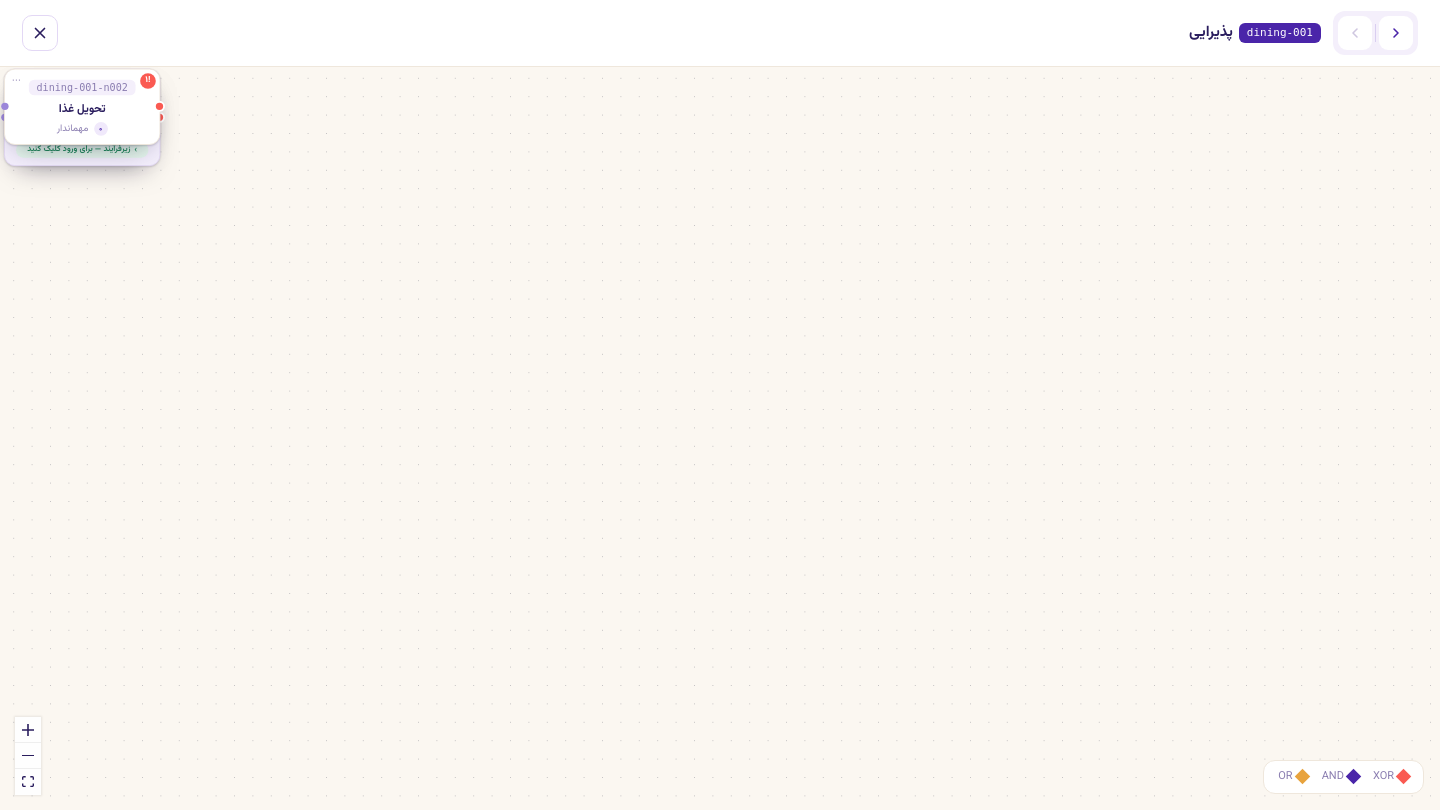
Test: FlowViewer › opens a read-only, conflict-free drawer for an activity
The image size is (1440, 810).
Step 1. Click the text "تحویل غذا" → (82, 109), box [59, 100, 106, 118]
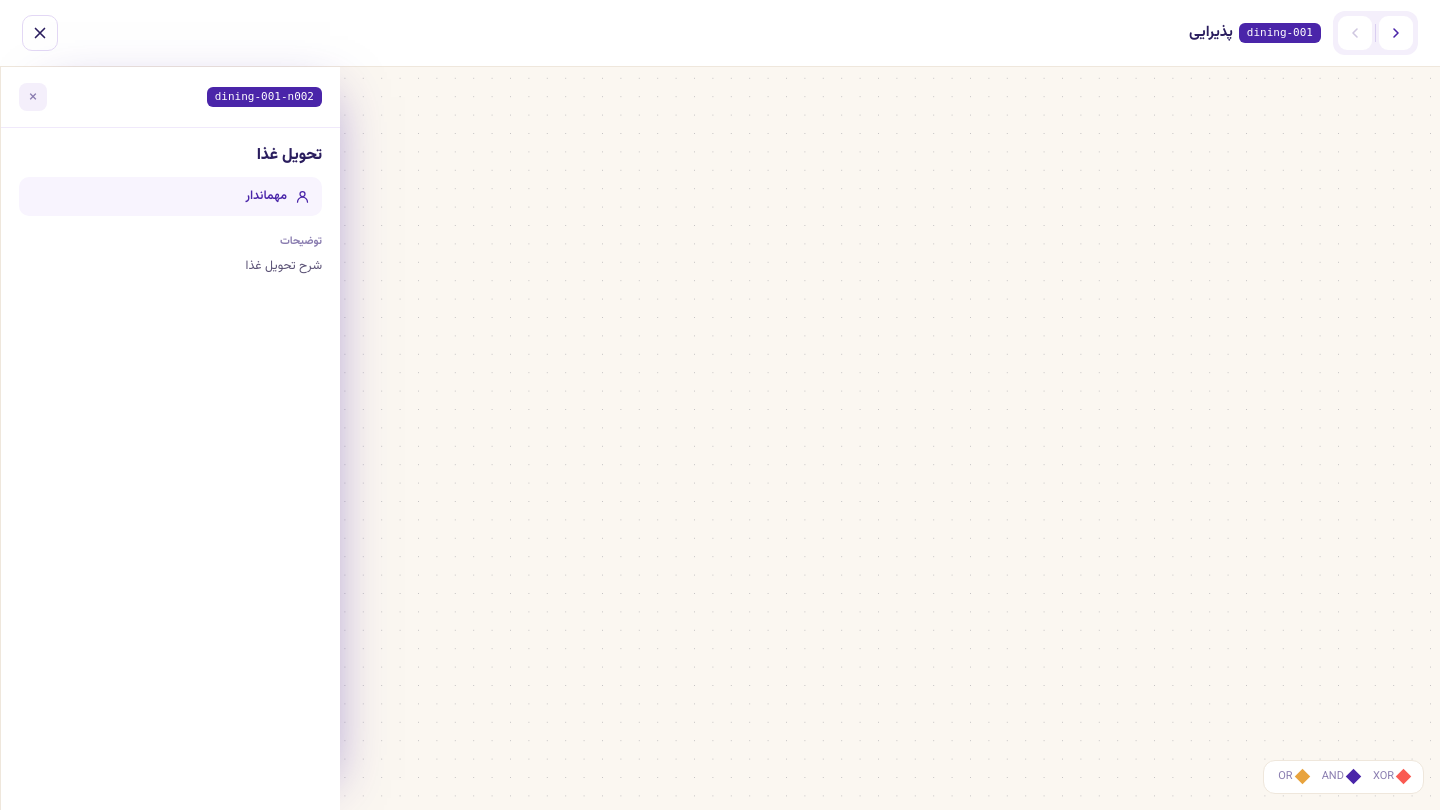
Now the text "شرح تحویل غذا" is shown, box [246, 256, 322, 276]
